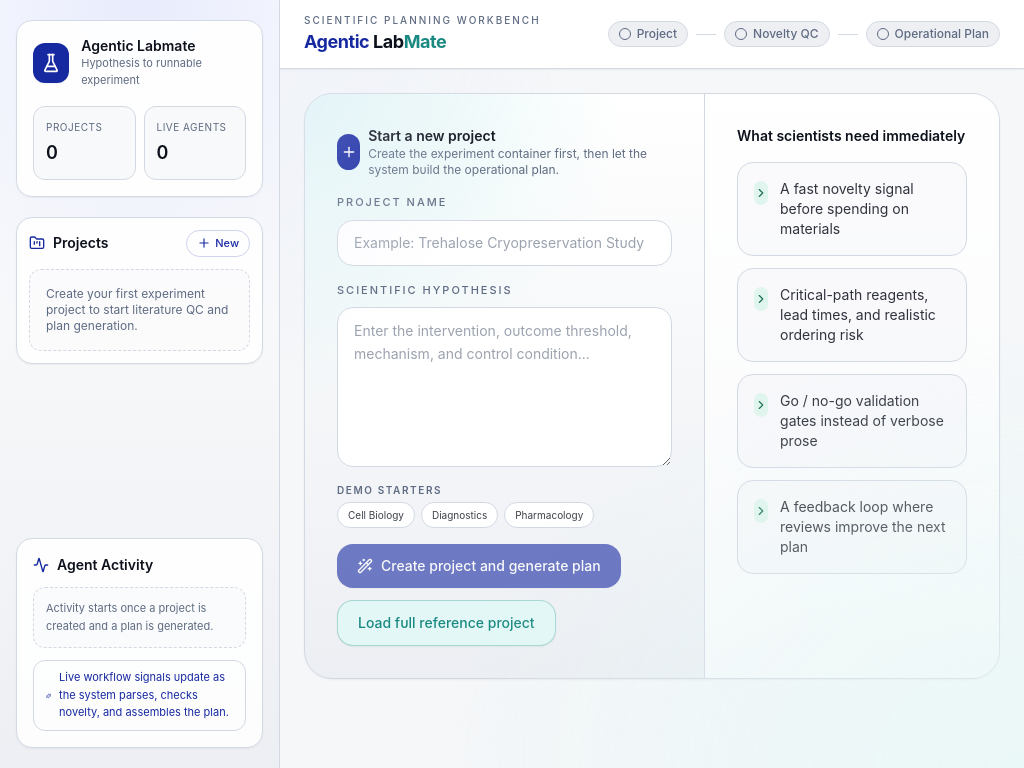
Test: Index page project flow › enables create button when form is complete
Expected: the button "Create project and generate plan" is disabled, [337,544,621,588]
Step 1. Type "My Study" into the field with placeholder "Example: Trehalose Cryopreservation Study" → (504, 243), box [337,220,672,266]
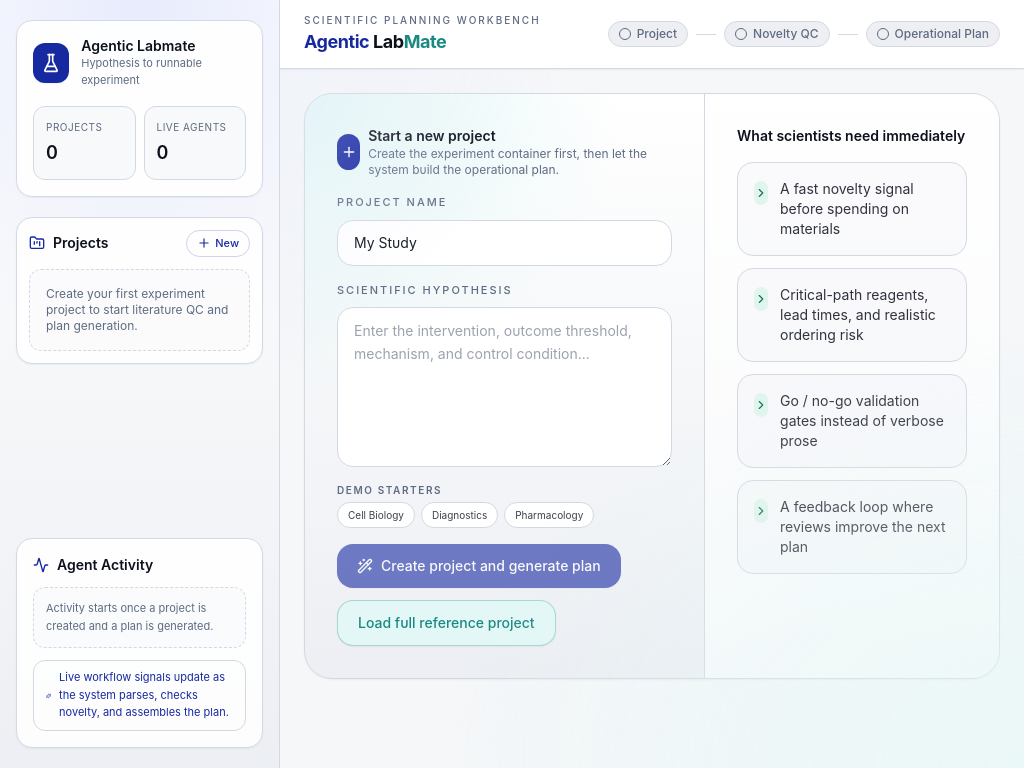
Step 2. Replace the text in the text box with placeholder "Enter the intervention" with "Hypothesis text" → (504, 387), box [337,307,672,467]
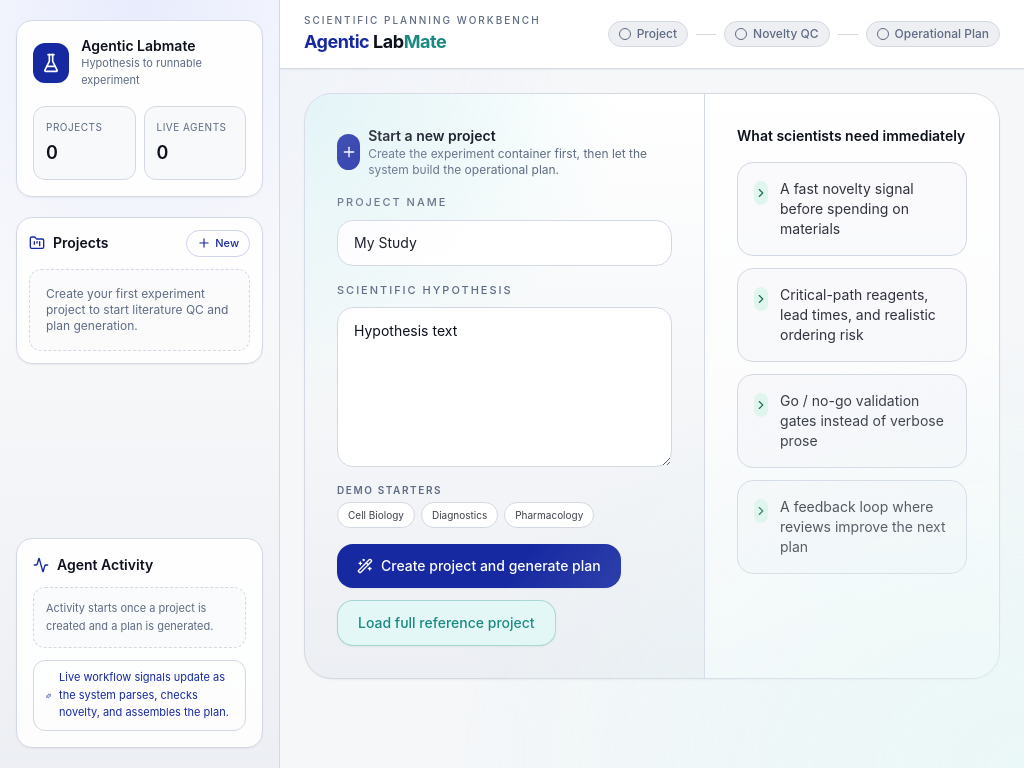
Now the button "Create project and generate plan" is enabled, box [337,544,621,588]
